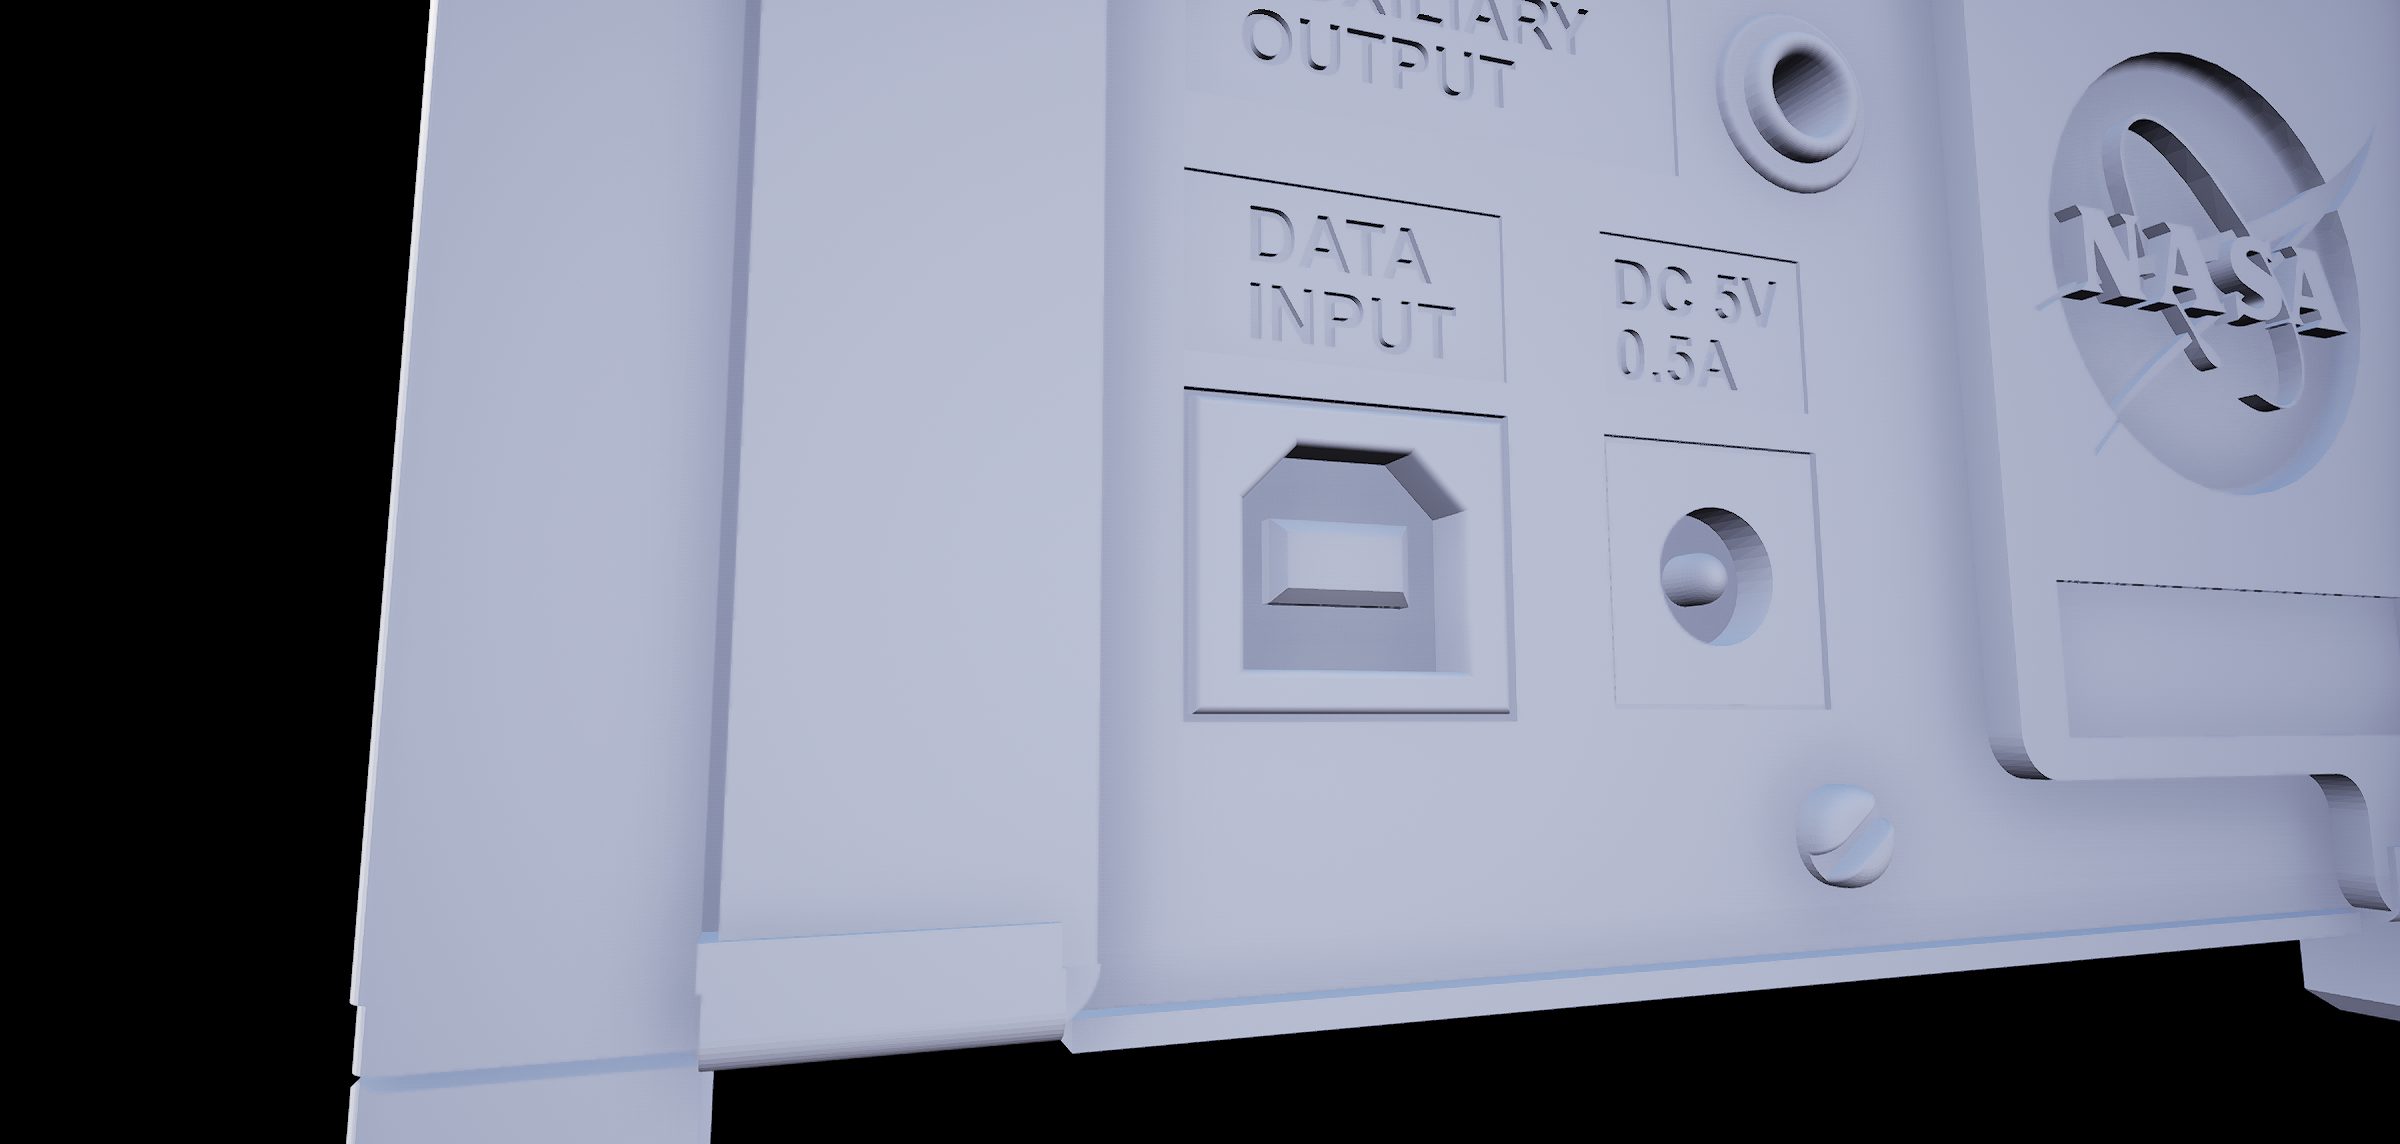aux: (1713, 15, 1872, 198)
dc: (1652, 495, 1782, 657)
usb: (1224, 415, 1494, 708)
